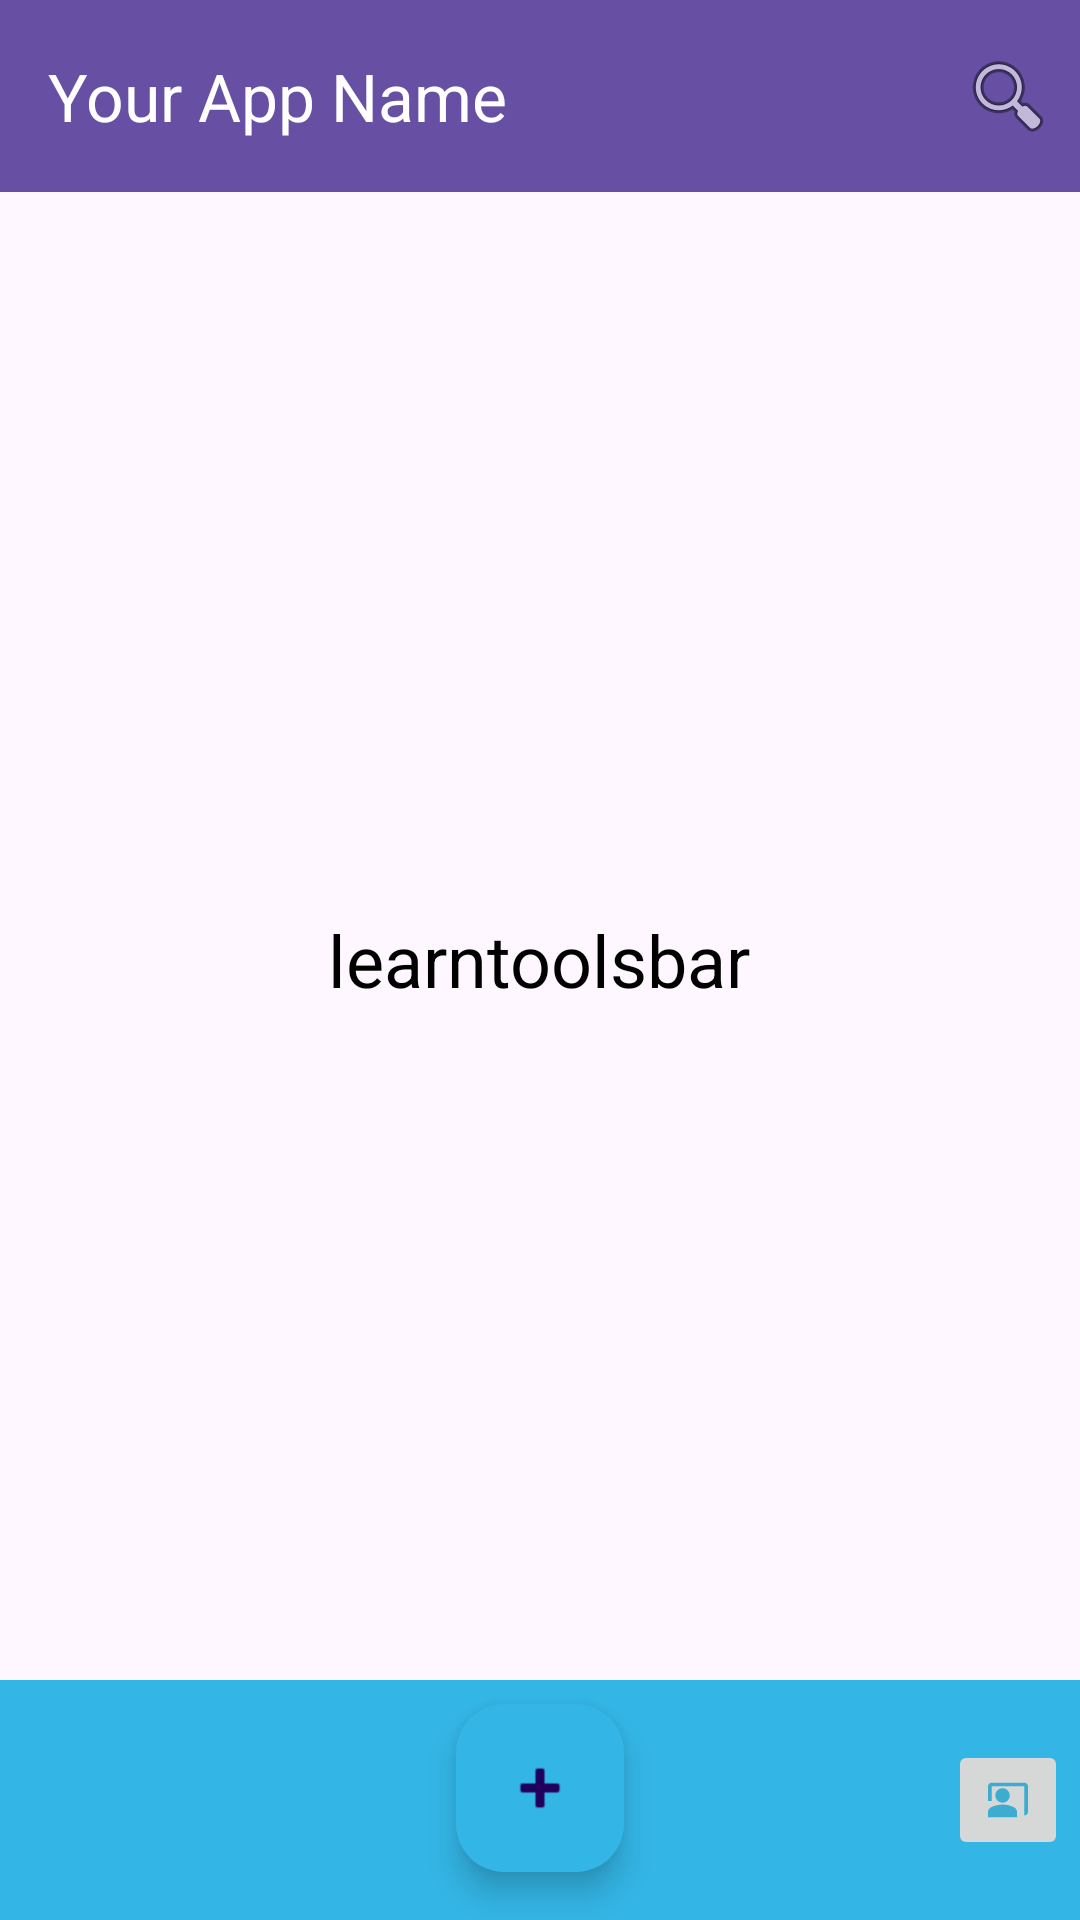

Screen size 1080w x 1920h. Icon name, then its center in pixels as (x,y):
add: (540,1805)
search: (1008,96)
